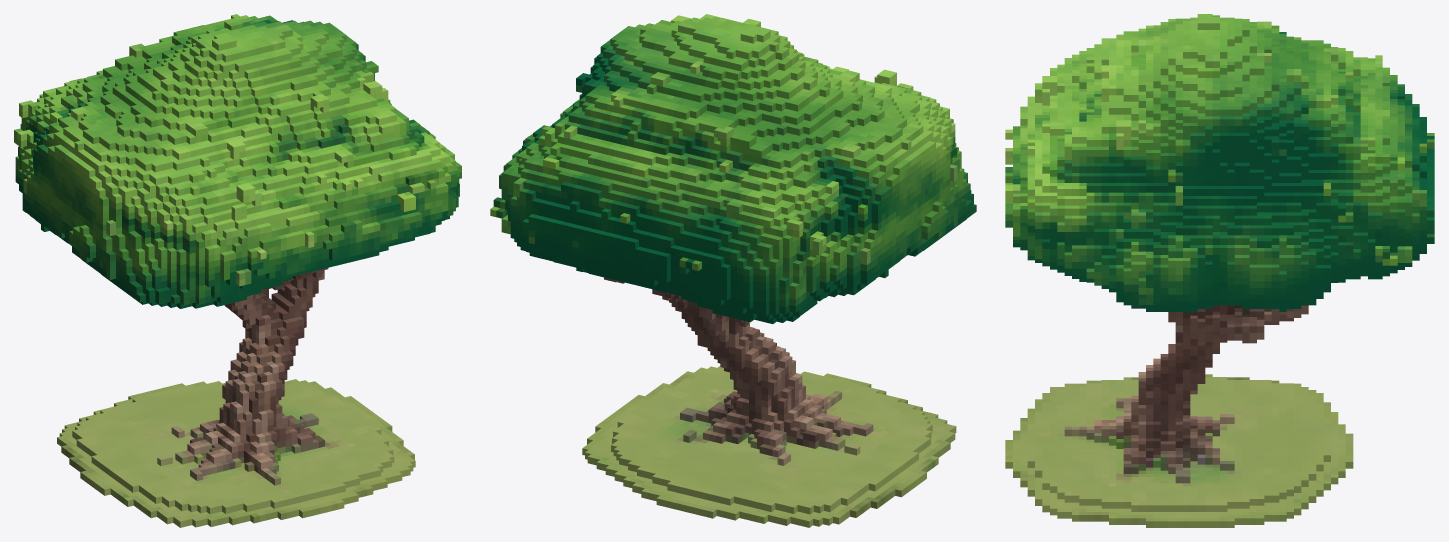
Rendered from sorceress-59bf193f-1776472753534_png.glb.
The picture shows the model from 3 angles, left to right: view 1: azimuth 30°, elevation 25°; view 2: azimuth 150°, elevation 25°; view 3: azimuth 270°, elevation 25°; orthographic projection. The views are drawn at different scales.
Visible parts, largest first — view 1: sorceress-59bf193f-1776472753534_png; view 2: sorceress-59bf193f-1776472753534_png; view 3: sorceress-59bf193f-1776472753534_png.
Part boxes in pixels (left/top/right/bottom): sorceress-59bf193f-1776472753534_png: left=14, top=14, right=461, bottom=527; sorceress-59bf193f-1776472753534_png: left=490, top=14, right=976, bottom=527; sorceress-59bf193f-1776472753534_png: left=1005, top=14, right=1434, bottom=527.
Size of the model in its own units: 1.63 by 1.8 by 1.61.
Materials: 1 (1 with a texture image).
